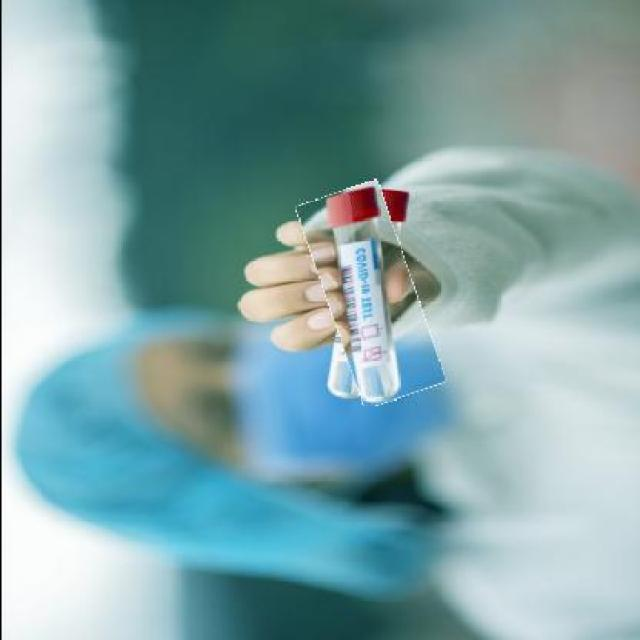Experimental-tube: (310, 182, 428, 404)
